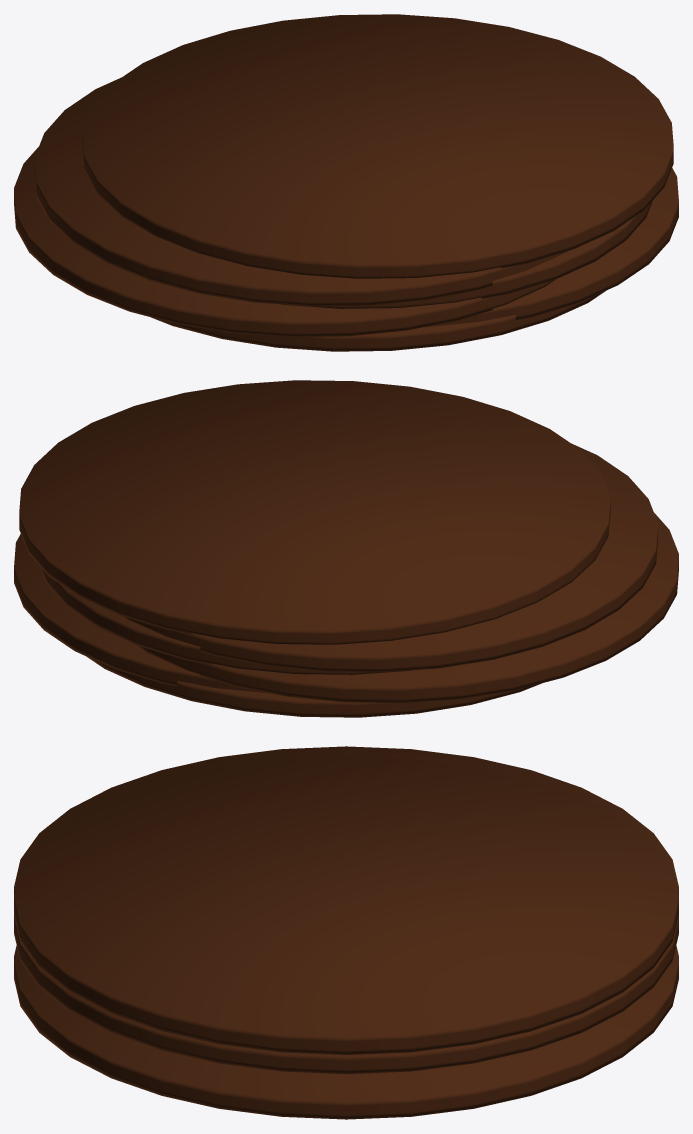
Rendered from chocolate.glb.
3 renders of one model, top to bottom at view 1: azimuth 30°, elevation 25°; view 2: azimuth 150°, elevation 25°; view 3: azimuth 270°, elevation 25°, orthographic. The views are drawn at different scales.
Visible parts, largest first — view 1: Cylinder.023; view 2: Cylinder.023; view 3: Cylinder.023.
Boxes of the visible parts, <box> form: Cylinder.023: <box>14,14,678,351</box>; Cylinder.023: <box>14,380,678,717</box>; Cylinder.023: <box>14,746,678,1119</box>.
Size of the model in its own units: 1.05 by 0.1392 by 0.9179.
